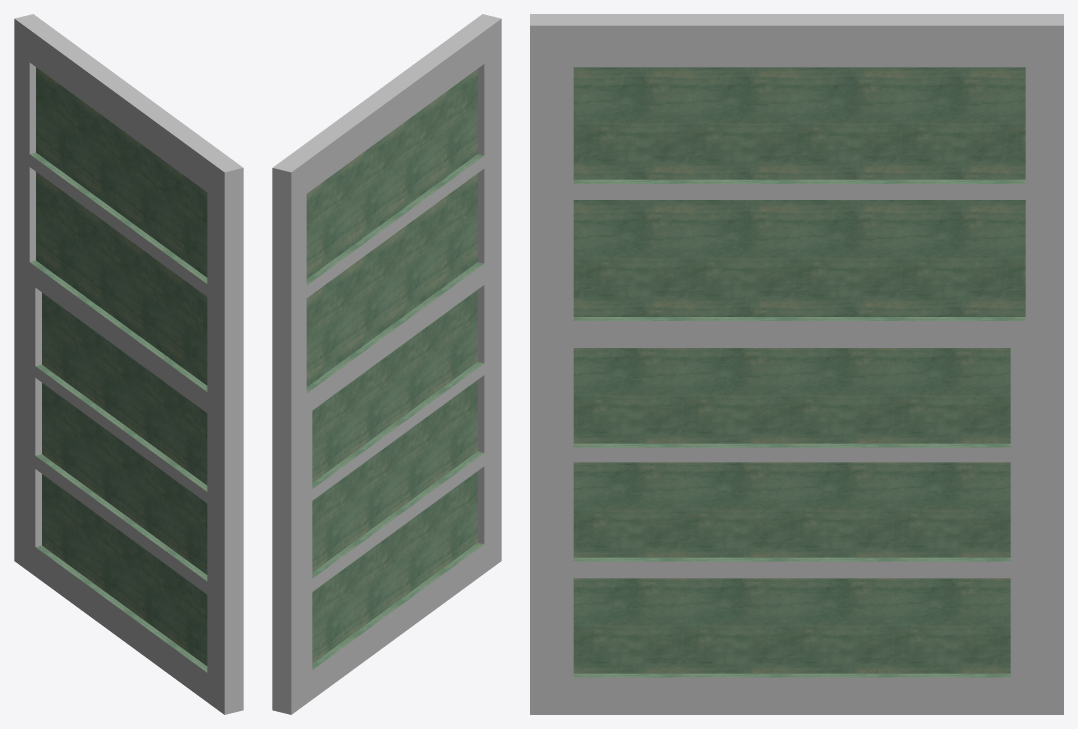
File: SM_W_Wood_1.fbx
3 views of the same model, side by side, from view 1: azimuth 30°, elevation 25°; view 2: azimuth 150°, elevation 25°; view 3: azimuth 270°, elevation 25° (orthographic). The views are drawn at different scales.
Visible parts, largest first — view 1: SM_W_Wood_1_LOD0; view 2: SM_W_Wood_1_LOD0; view 3: SM_W_Wood_1_LOD0.
Part boxes in pixels (x1,y1,x2,y2): SM_W_Wood_1_LOD0: (14,14,243,714); SM_W_Wood_1_LOD0: (272,14,501,714); SM_W_Wood_1_LOD0: (530,14,1063,714).
Bounding box in the file's own units: 17.16 × 329 × 469.
